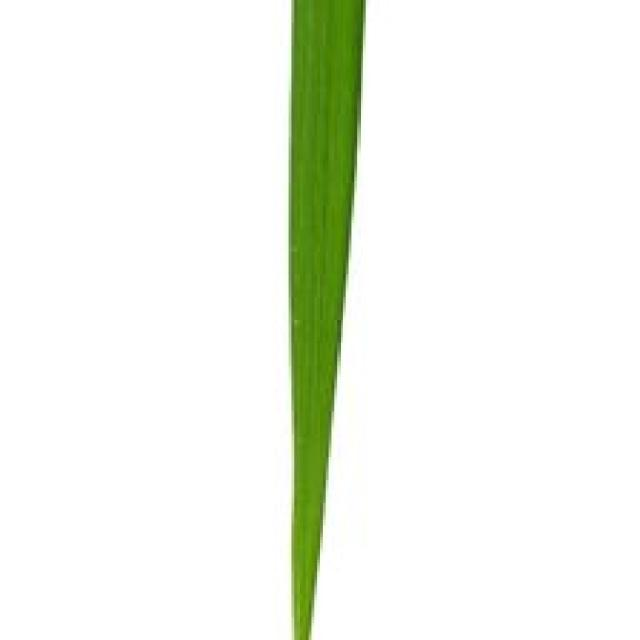Rice___Healthy_Rice_Plant: (287, 0, 365, 637)
